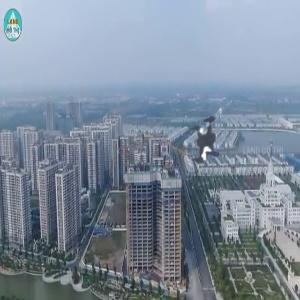drone: (160, 94, 256, 190)
